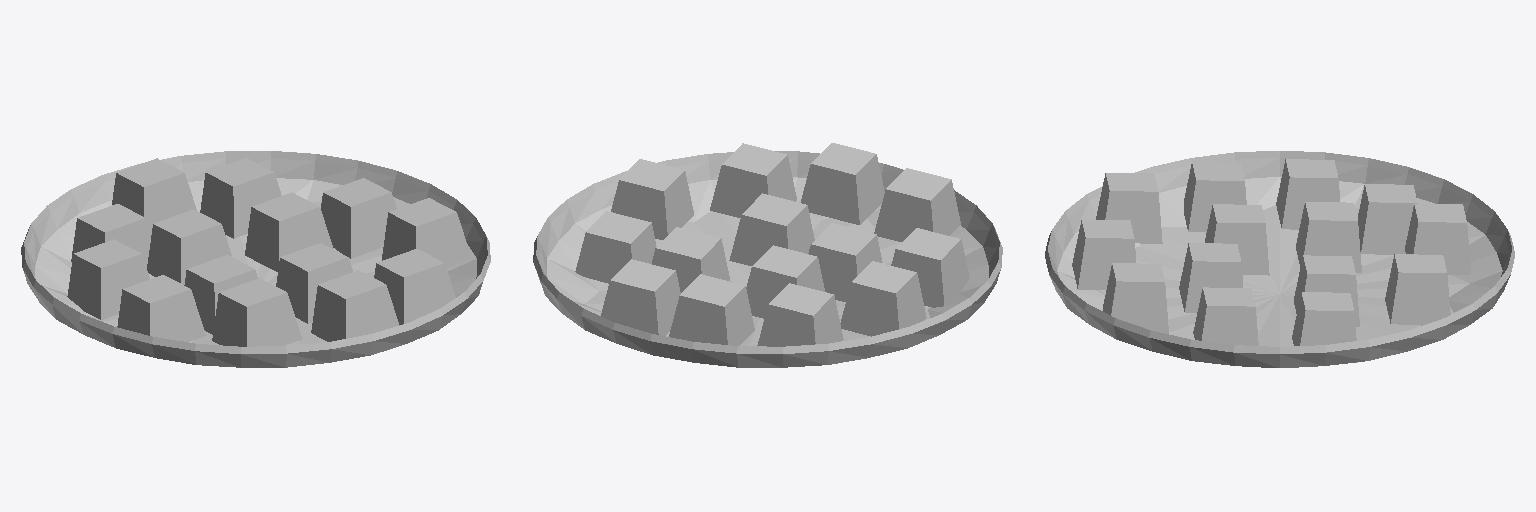
Rendered from AGAR AGAR KERING.obj.
3 renders of one model, left to right at view 1: azimuth 30°, elevation 25°; view 2: azimuth 150°, elevation 25°; view 3: azimuth 270°, elevation 25°, orthographic.
Visible parts, largest first — view 1: Cylinder, Cube.004_Cube.008, Cube.003_Cube.007, Cube.009_Cube.013, Cube.006_Cube.010, Cube.012_Cube.016, Cube.005_Cube.009, Cube_Cube.004, Cube.013_Cube.017, Cube.014_Cube.018, Cube.002_Cube.006, Cube.008_Cube.012 (+3 smaller); view 2: Cylinder, Cube.003_Cube.007, Cube.006_Cube.010, Cube.008_Cube.012, Cube.004_Cube.008, Cube.014_Cube.018, Cube_Cube.004, Cube.002_Cube.006, Cube.007_Cube.011, Cube.011_Cube.015, Cube.005_Cube.009, Cube.012_Cube.016 (+3 smaller); view 3: Cylinder, Cube.014_Cube.018, Cube.002_Cube.006, Cube.007_Cube.011, Cube.008_Cube.012, Cube.004_Cube.008, Cube.003_Cube.007, Cube.013_Cube.017, Cube_Cube.004, Cube.010_Cube.014, Cube.006_Cube.010, Cube.005_Cube.009 (+3 smaller).
Part boxes in pixels (x1,y1,x2,y2): Cylinder: (21, 151, 490, 367); Cube.004_Cube.008: (212, 278, 301, 346); Cube.003_Cube.007: (311, 270, 399, 341); Cube.009_Cube.013: (245, 192, 333, 271); Cube.006_Cube.010: (67, 239, 149, 319); Cube.012_Cube.016: (321, 178, 396, 258); Cube.005_Cube.009: (117, 275, 205, 341); Cube_Cube.004: (382, 198, 471, 267); Cube.013_Cube.017: (147, 209, 231, 284); Cube.014_Cube.018: (200, 158, 281, 238); Cube.002_Cube.006: (374, 249, 455, 324); Cube.008_Cube.012: (112, 158, 196, 234); Cylinder: (533, 151, 1002, 367); Cube.003_Cube.007: (801, 143, 884, 224); Cube.006_Cube.010: (840, 261, 926, 336); Cube.008_Cube.012: (669, 274, 754, 345); Cube.004_Cube.008: (874, 168, 960, 241); Cube.014_Cube.018: (601, 259, 680, 335); Cube_Cube.004: (611, 159, 693, 239); Cube.002_Cube.006: (710, 143, 796, 217); Cube.007_Cube.011: (757, 283, 843, 346); Cube.011_Cube.015: (729, 193, 814, 265); Cube.005_Cube.009: (891, 228, 969, 307); Cube.012_Cube.016: (575, 211, 656, 283); Cylinder: (1045, 151, 1514, 367); Cube.014_Cube.018: (1385, 254, 1450, 324); Cube.002_Cube.006: (1103, 263, 1168, 333); Cube.007_Cube.011: (1358, 184, 1417, 254); Cube.008_Cube.012: (1405, 204, 1470, 274); Cube.004_Cube.008: (1096, 173, 1162, 243); Cube.003_Cube.007: (1072, 219, 1135, 289); Cube.013_Cube.017: (1296, 202, 1361, 272); Cube_Cube.004: (1193, 287, 1258, 345); Cube.010_Cube.014: (1205, 204, 1269, 275); Cube.006_Cube.010: (1276, 159, 1339, 229); Cube.005_Cube.009: (1184, 162, 1246, 232).
Bounding box in the file's own units: 3.92 × 0.7156 × 3.92.